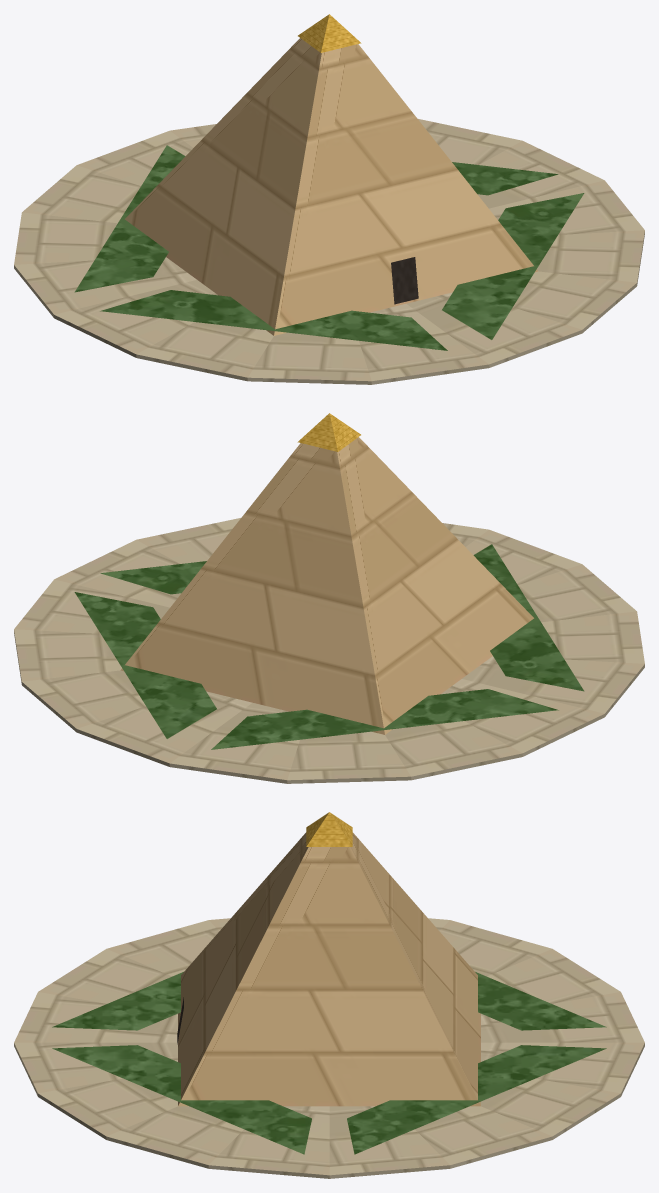
Rendered from pyramid_large_lod2.glb.
The picture shows the model from 3 angles, top to bottom: view 1: azimuth 30°, elevation 25°; view 2: azimuth 150°, elevation 25°; view 3: azimuth 270°, elevation 25°; orthographic projection.
Visible parts, largest first — view 1: pyramid_large_lod2; view 2: pyramid_large_lod2; view 3: pyramid_large_lod2.
Boxes of the visible parts, box(x1,y1,x2,y2) form: pyramid_large_lod2: box(14, 14, 644, 384); pyramid_large_lod2: box(14, 413, 644, 783); pyramid_large_lod2: box(14, 812, 644, 1178).
Size of the model in its own units: 1.89 by 0.779 by 1.9.
1 material, 1 textured.
